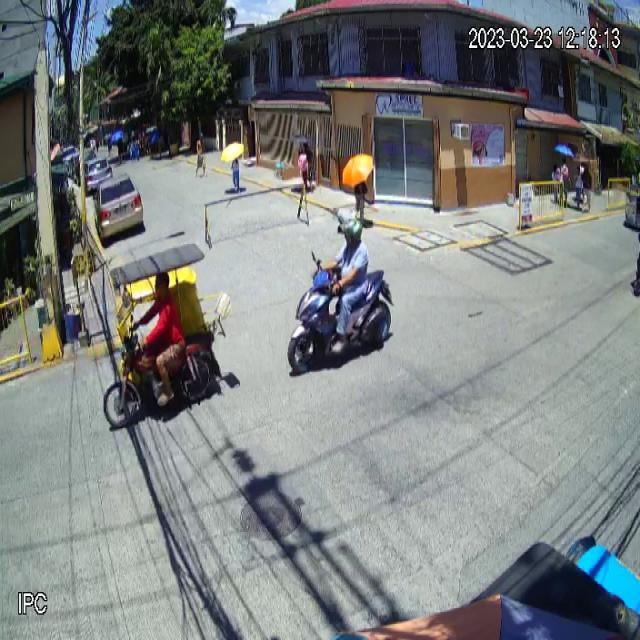Car: (92, 172, 143, 240)
Motorcycle: (287, 248, 395, 372)
Tricycle: (102, 244, 233, 430)
